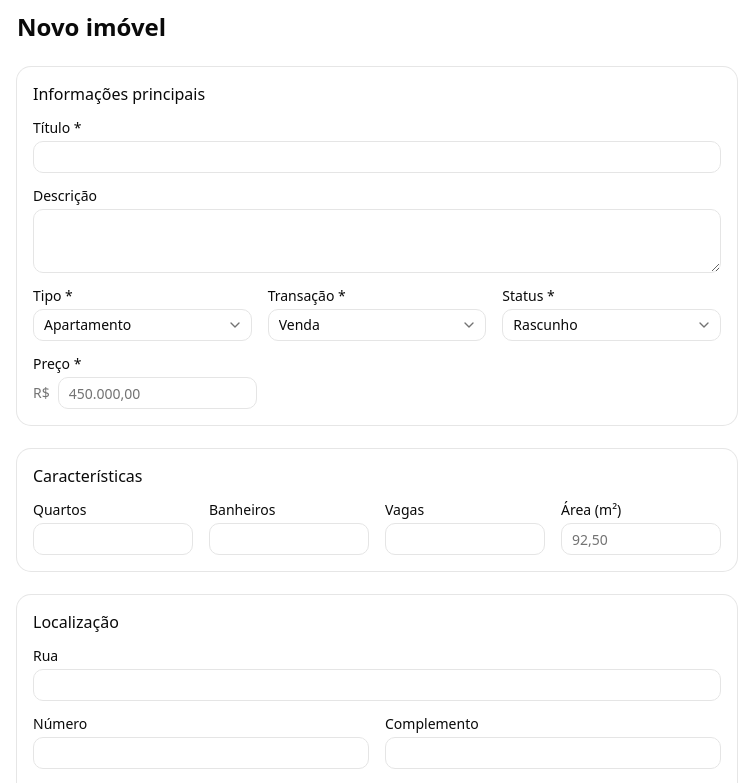
Test: NewPropertyPage › disables the submit button while the mutation is pending (no double-submit)
Type "Apartamento no Centro" into the field labelled "Título *".
click(377, 157); type("Apartamento no Centro")  # box [33,141,721,173]
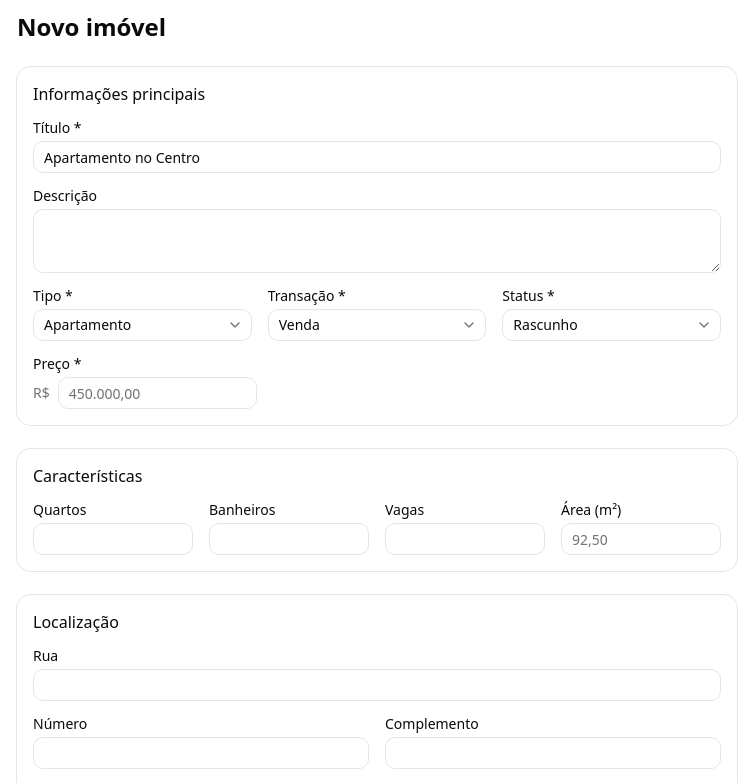
Type "450000,00" into the field labelled "Preço *".
click(157, 393); type("450000,00")  # box [58,377,257,409]
(page scrolled)
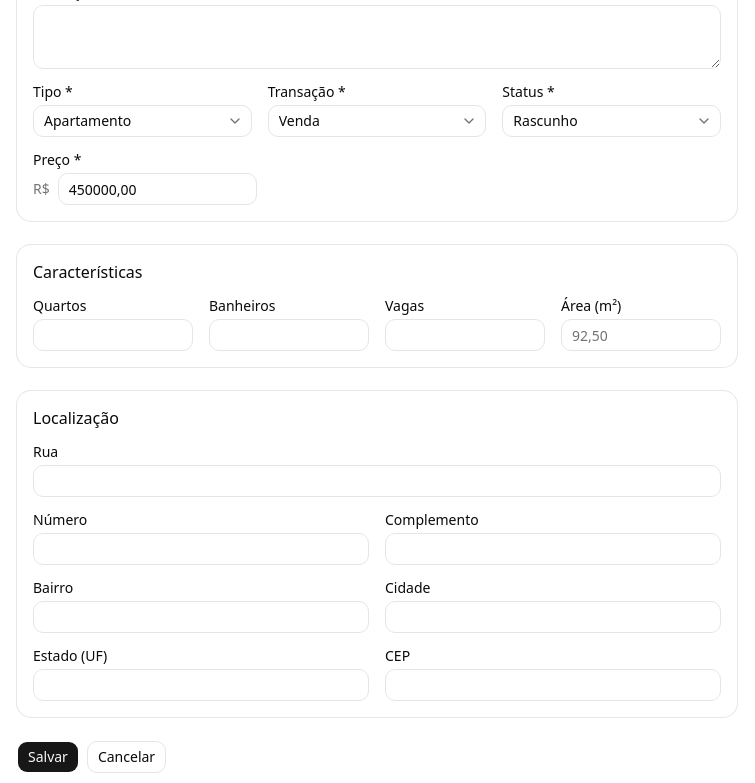
Click the button "Salvar".
click(48, 757)  # box [17,741,79,773]
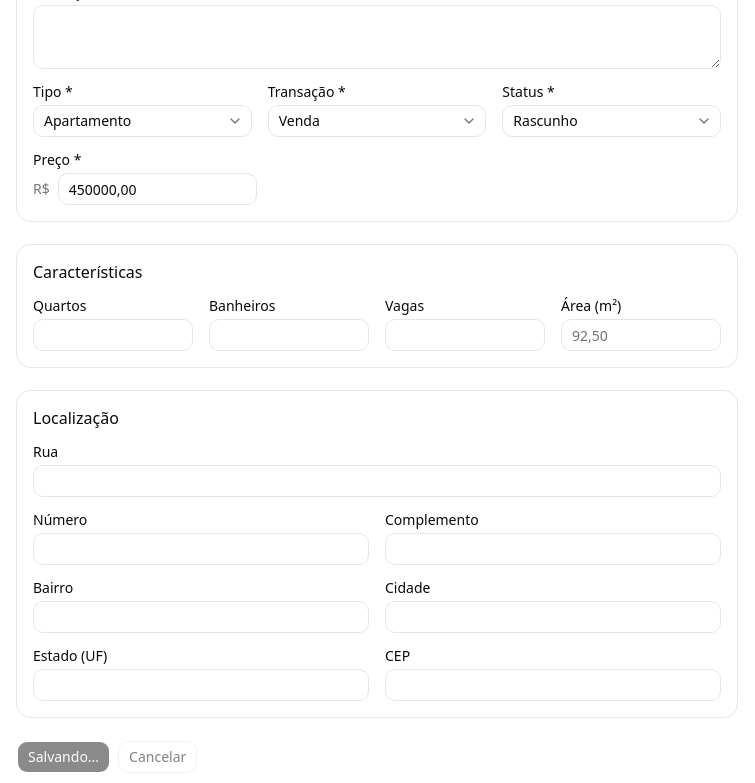
Expected: the button "Salvando..." is disabled, [17,741,110,773]
